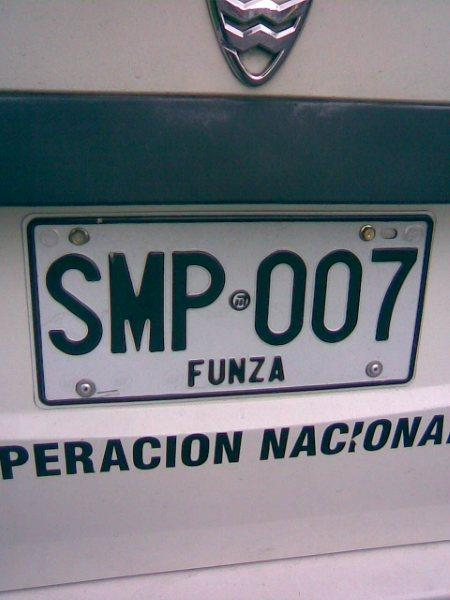placas: (17, 207, 437, 415)
